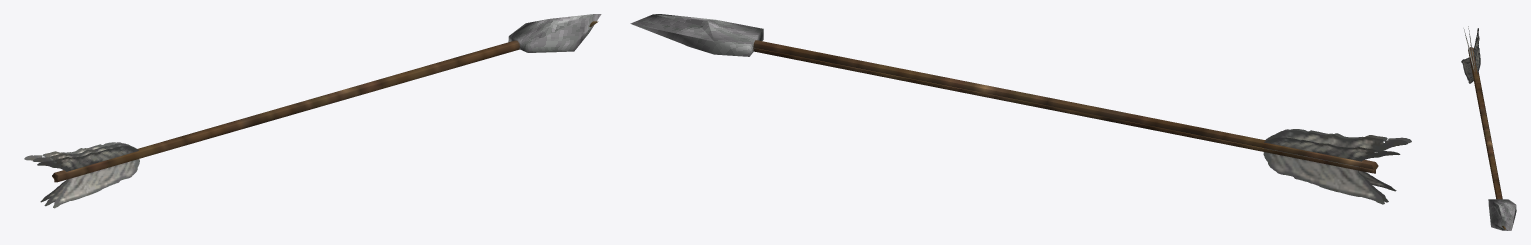
File: ArrowObsidian.fbx
The picture shows the model from 3 angles, left to right: view 1: azimuth 30°, elevation 25°; view 2: azimuth 150°, elevation 25°; view 3: azimuth 270°, elevation 25°; orthographic projection. The views are drawn at different scales.
Parts seen in each view (by area): view 1: model (1), Sphere; view 2: model (1), Sphere; view 3: model (1), Sphere.
Boxes of the visible parts, <box> form: model (1): <box>24,21,598,208</box>; Sphere: <box>508,14,601,52</box>; model (1): <box>753,40,1411,204</box>; Sphere: <box>630,14,763,56</box>; model (1): <box>1461,26,1505,229</box>; Sphere: <box>1488,199,1516,230</box>.
Size of the model in its own units: 1.74 by 0.2281 by 0.2388.
Materials: 2 (2 with a texture image).
